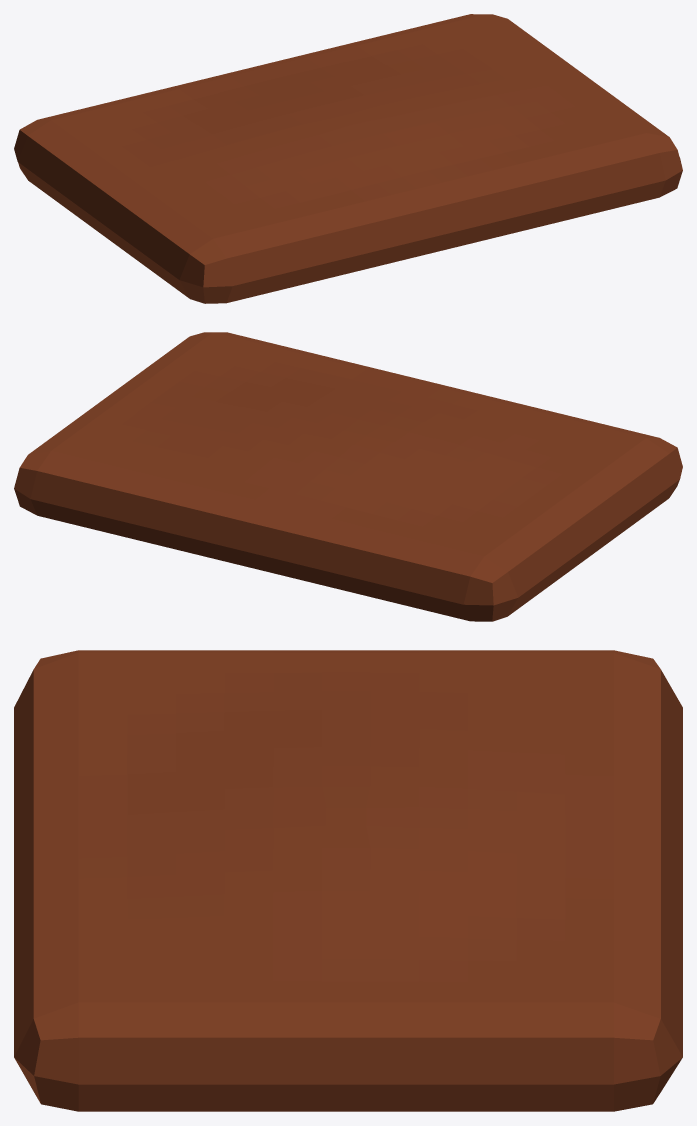
The model's file is SAB-THR-std.glb.
3 views of the same model, one above another, from view 1: azimuth 30°, elevation 25°; view 2: azimuth 150°, elevation 25°; view 3: azimuth 270°, elevation 25° (orthographic). The views are drawn at different scales.
Visible parts, largest first — view 1: throw:pbr; view 2: throw:pbr; view 3: throw:pbr.
Boxes of the visible parts, x1,y1,x2,y2 form: throw:pbr: [14, 14, 682, 303]; throw:pbr: [14, 332, 682, 621]; throw:pbr: [14, 650, 682, 1111].
Size of the model in its own units: 0.4983 by 0.0729 by 0.3486.
